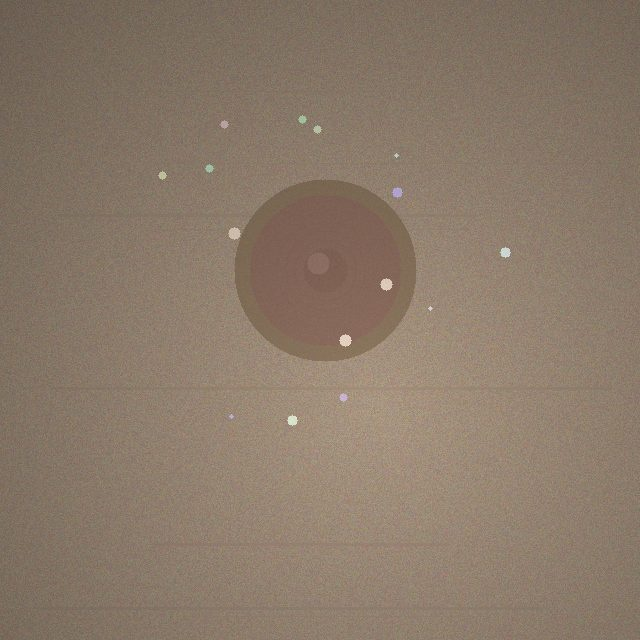overburn: (234, 179, 416, 361)
